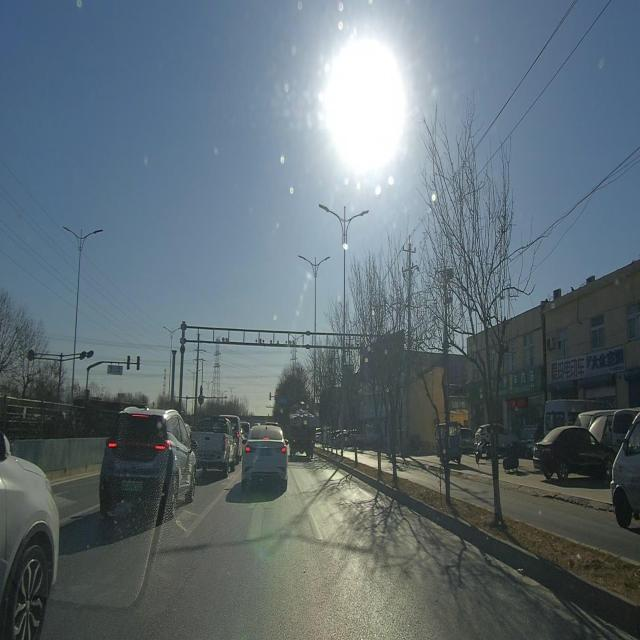Traffic Light -Off-: (136, 354, 141, 372), (127, 354, 130, 371)
Traffic Light -Red-: (274, 392, 276, 401), (270, 392, 272, 401)
